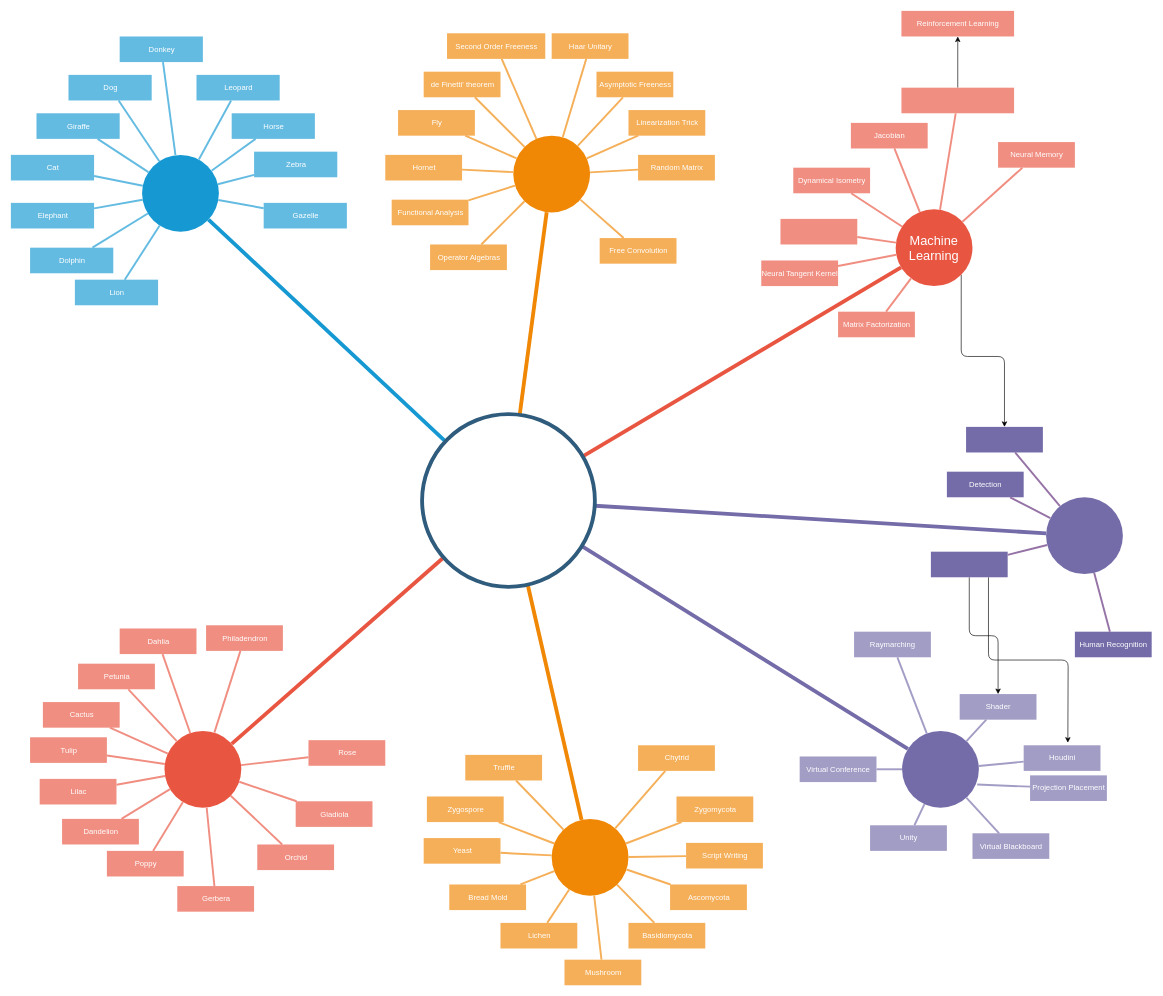
The diagram is 1163 pixels wide and 996 high, and some of its shapes have lost their labels. The shapes that lost their labels are listed below. From the top down, each one's centre as x and y in pixels, then its label:
At pixel 957 100: "Random Network Distillation".
At pixel 180 193: "Quantum Information".
At pixel 551 173: "Free Probability".
At pixel 818 231: "Fisher Information".
At pixel 1004 439: "Compression of CNN".
At pixel 508 500: "Research Interests".
At pixel 1084 535: "Computer Vision".
At pixel 969 564: "Computer Graphics".
At pixel 202 769: "Flower".
At pixel 940 769: "Virtual Reality".
At pixel 589 857: "Fungi".
